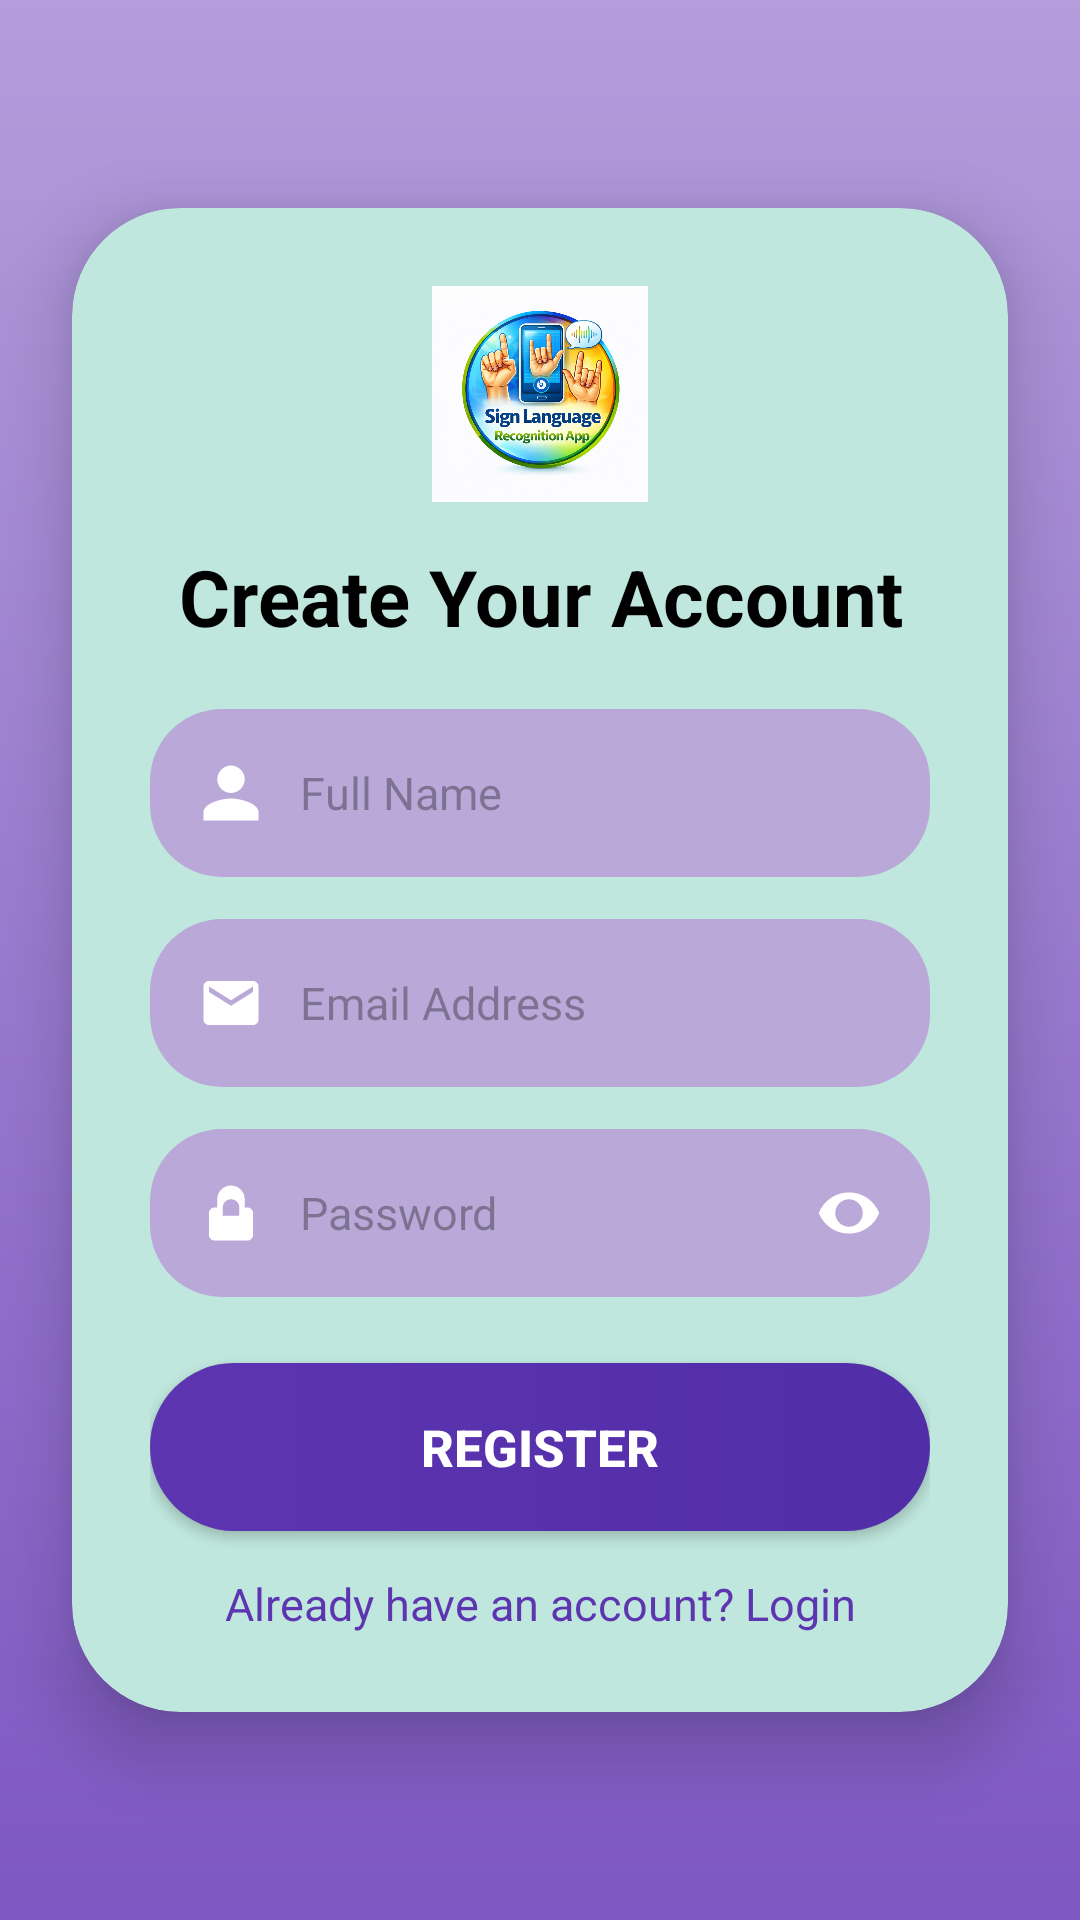

Icon bounding boxes for this 1080w x 1920h phone screenshot, format (x1, y1, x2, y2):
eye: (819, 1192, 879, 1234)
lock: (209, 1185, 253, 1241)
user: (203, 765, 259, 821)
